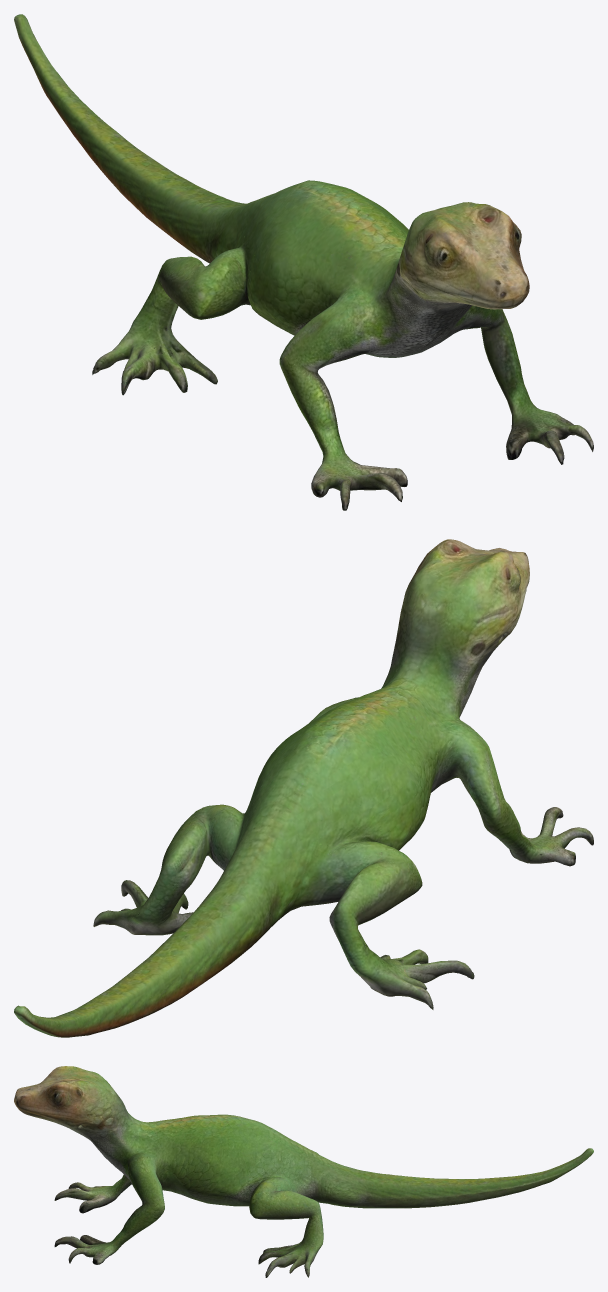
Rendered from lizard.glb.
3 renders of one model, top to bottom at view 1: azimuth 30°, elevation 25°; view 2: azimuth 150°, elevation 25°; view 3: azimuth 270°, elevation 25°, orthographic. The views are drawn at different scales.
Size of the model in its own units: 0.8175 by 0.6001 by 2.
1 material, 1 textured.
